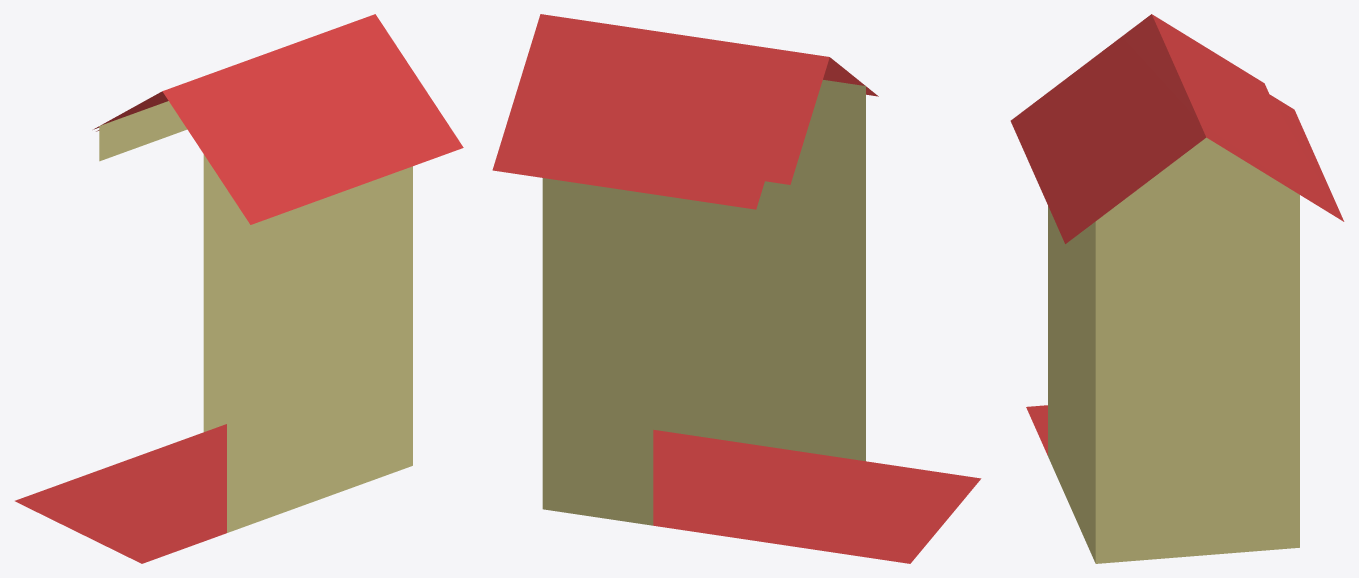
3 views of the same model, side by side, from view 1: azimuth 30°, elevation 25°; view 2: azimuth 150°, elevation 25°; view 3: azimuth 270°, elevation 25° (orthographic). The views are drawn at different scales.
Size of the model in its own units: 11.92 by 8.76 by 12.57.
